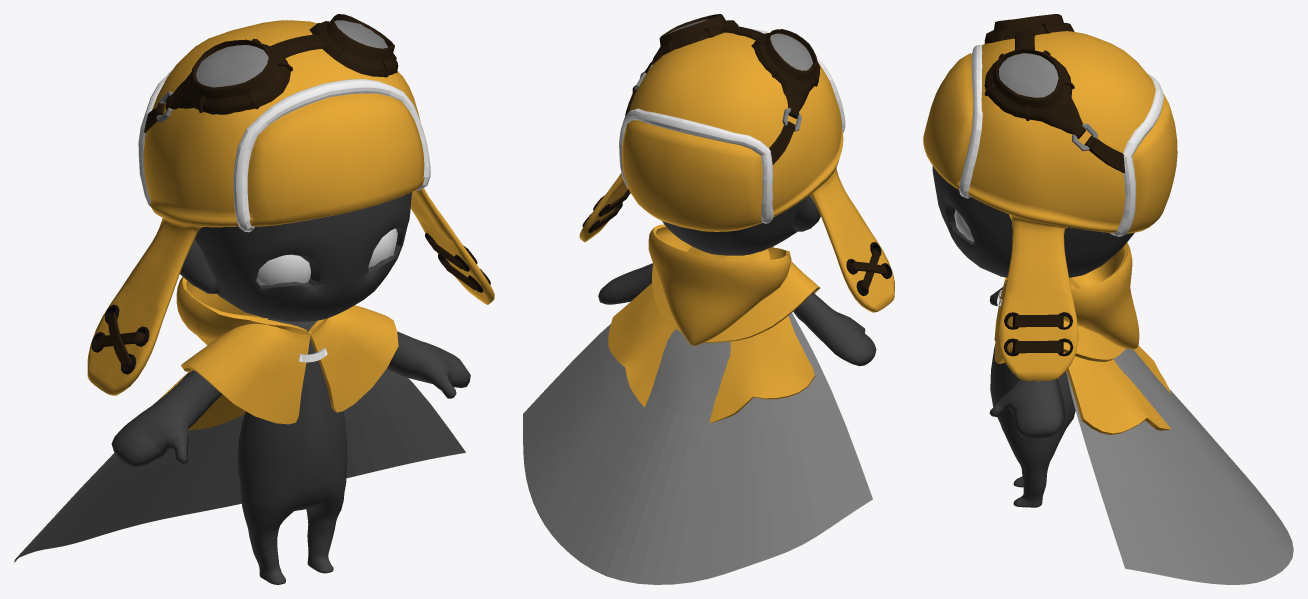
Rendered from C_PC_joy_cape.fbx.
3 views of the same model, side by side, from view 1: azimuth 30°, elevation 25°; view 2: azimuth 150°, elevation 25°; view 3: azimuth 270°, elevation 25° (orthographic). The views are drawn at different scales.
Parts seen in each view (by area): view 1: helmet, body, cape_effect, cape; view 2: cape_effect, helmet, body, cape; view 3: helmet, cape_effect, body, cape.
Part boxes in pixels (x1,y1,x2,y2): helmet: (87,14,494,395); body: (111,192,470,584); cape_effect: (14,369,465,562); cape: (158,369,245,429); cape_effect: (523,313,872,584); helmet: (579,14,894,312); body: (598,195,876,366); cape: (608,283,815,422); helmet: (923,14,1177,381); cape_effect: (1066,348,1293,584); body: (932,166,1139,507); cape: (1063,345,1171,434).
Bounding box in the file's own units: 4.38 × 5.59 × 3.64.
